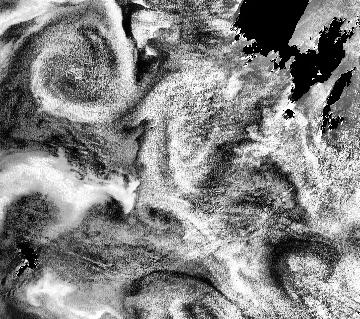AE: (28, 10, 140, 126)
